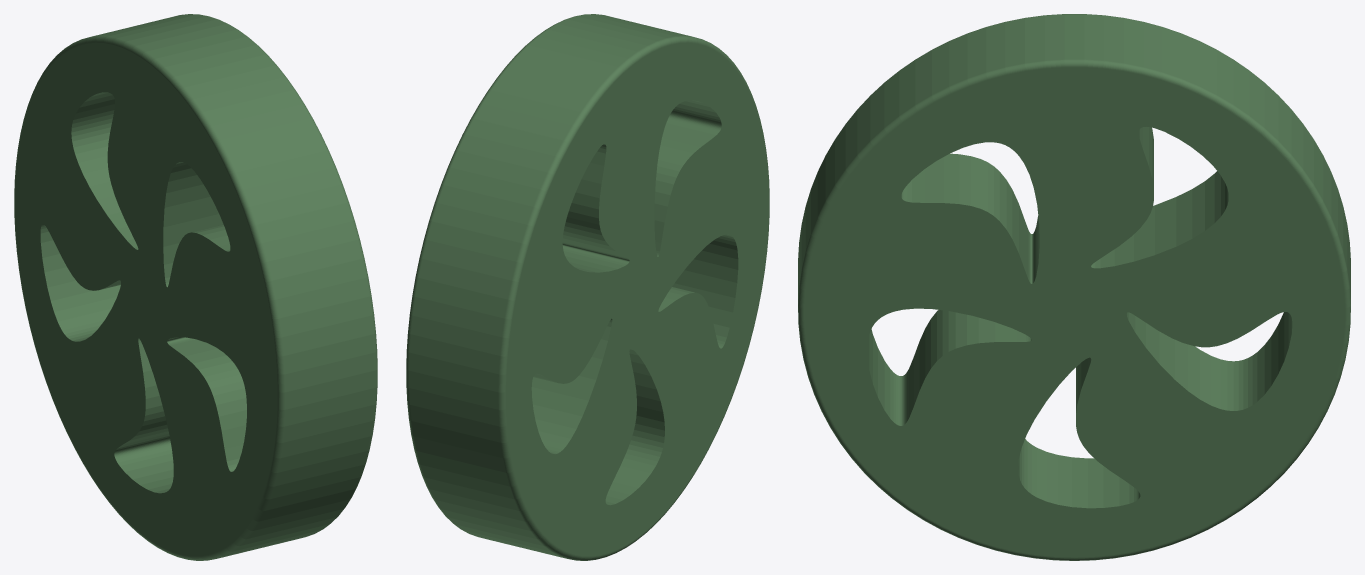
Rendered from wheel.dae.
3 views of the same model, side by side, from view 1: azimuth 30°, elevation 25°; view 2: azimuth 150°, elevation 25°; view 3: azimuth 270°, elevation 25° (orthographic). The views are drawn at different scales.
Visible parts, largest first — view 1: Wheel; view 2: Wheel; view 3: Wheel.
Boxes of the visible parts, x1,y1,x2,y2 form: Wheel: (14,14,377,560); Wheel: (406,14,769,560); Wheel: (798,14,1350,560).
Bounding box in the file's own units: 0.02 × 0.0937 × 0.0937.
